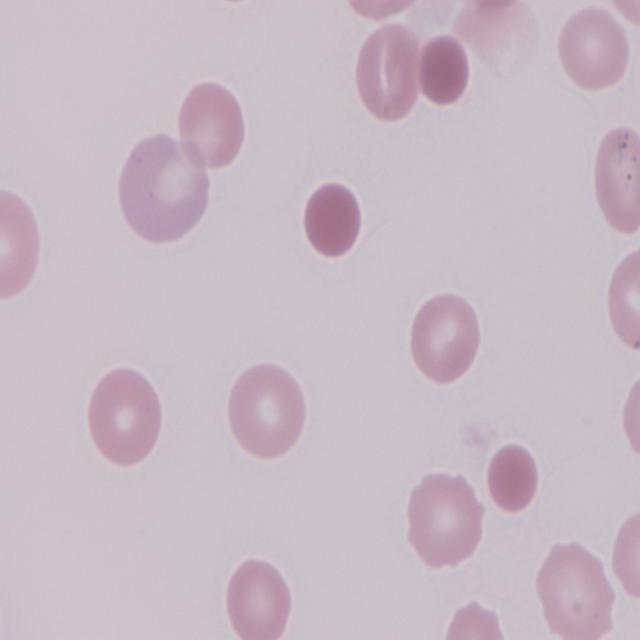RBC: (114, 130, 212, 246), (227, 359, 310, 464), (84, 365, 164, 473), (535, 535, 617, 640), (404, 470, 486, 571), (554, 2, 630, 96), (407, 290, 483, 382), (175, 80, 248, 172), (225, 553, 293, 640), (0, 177, 43, 306), (592, 124, 640, 230), (604, 243, 640, 357), (609, 499, 640, 604), (440, 601, 508, 640), (618, 362, 640, 466), (605, 0, 640, 28)
Spherocyte: (300, 184, 364, 259), (416, 32, 474, 108), (487, 444, 542, 516)
